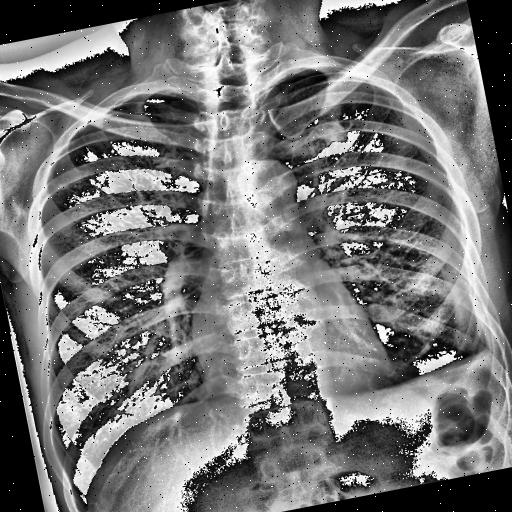10- Pleural effusion: (435, 318, 512, 409), (439, 328, 505, 384), (470, 340, 502, 374), (67, 496, 95, 512)
11- Pleural thickening: (462, 278, 509, 392), (458, 272, 492, 337), (470, 340, 502, 374), (67, 496, 95, 512)
13- Pulmonary fibrosis: (46, 175, 75, 198), (46, 175, 68, 192)
9- Other lesion: (46, 175, 68, 192)
